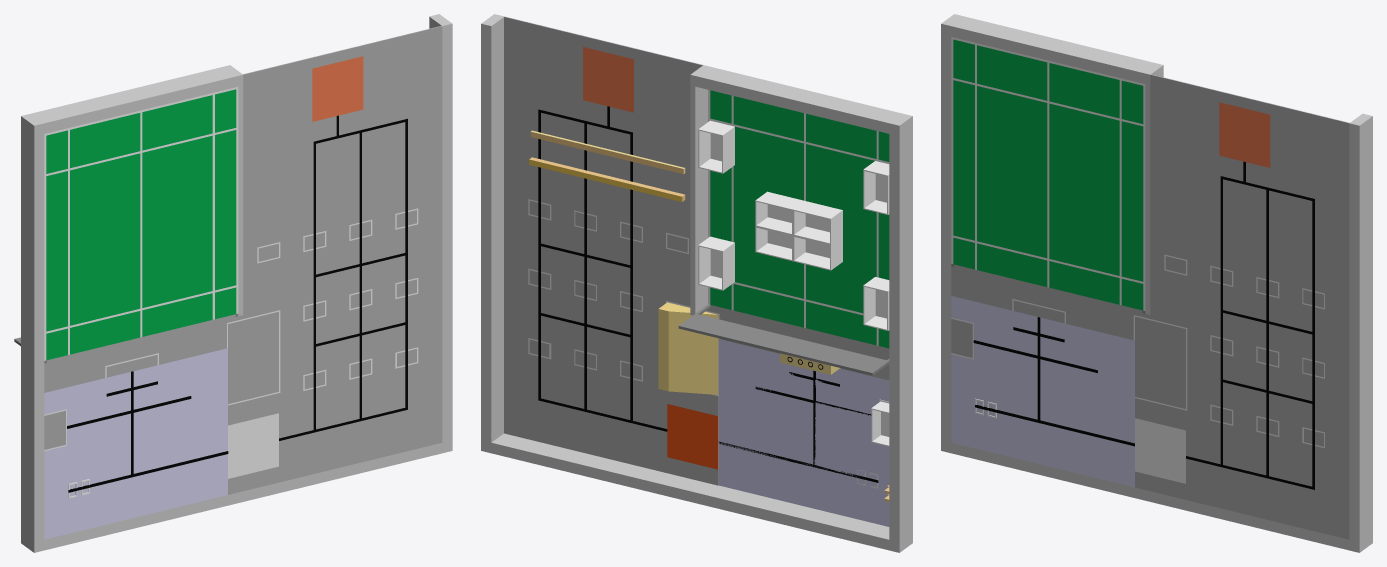
Rendered from TDK_27th.glb.
The picture shows the model from 3 angles, left to right: view 1: azimuth 30°, elevation 25°; view 2: azimuth 150°, elevation 25°; view 3: azimuth 330°, elevation 25°; orthographic projection.
Visible parts, largest first — view 1: Body_44, Body_56, 3DGeom-13, Body_77, Body_78, Body_51, Body_50, Body_80, Body_24, Body_49, Body_75, Body_79 (+17 smaller); view 2: Body_44, Body_56, 3DGeom-11, Body_77, Body_78, Body_51, Body_50, Body_59, Body_49, 3DGeom-894, Body_47, Body_45 (+28 smaller); view 3: Body_44, Body_56, 3DGeom-13, Body_78, Body_77, Body_51, Body_50, Body_80, Body_24, Body_49, Body_79, Body_75 (+17 smaller).
Boxes of the visible parts, box(x1,y1,x2,y2) form: Body_44: box(44, 26, 442, 494); Body_56: box(21, 14, 452, 552); 3DGeom-13: box(44, 348, 227, 539); Body_77: box(142, 135, 212, 307); Body_78: box(70, 153, 140, 325); Body_51: box(362, 122, 405, 263); Body_50: box(316, 133, 359, 274); Body_80: box(44, 87, 238, 360); Body_24: box(228, 311, 278, 403); Body_49: box(279, 115, 407, 440); Body_75: box(46, 171, 67, 331); Body_79: box(215, 130, 236, 290); Body_44: box(504, 16, 889, 485); Body_56: box(481, 14, 912, 552); 3DGeom-11: box(718, 339, 889, 526); Body_77: box(733, 126, 803, 298); Body_78: box(806, 144, 876, 313); Body_51: box(541, 113, 584, 253); Body_50: box(587, 124, 630, 264); Body_59: box(658, 302, 718, 394); Body_49: box(538, 106, 667, 431); 3DGeom-894: box(681, 314, 886, 374); Body_47: box(541, 315, 584, 408); Body_45: box(587, 327, 630, 419); Body_44: box(951, 74, 1349, 539); Body_56: box(941, 14, 1372, 552); 3DGeom-13: box(951, 296, 1134, 487); Body_78: box(977, 86, 1047, 258); Body_77: box(1049, 103, 1119, 275); Body_51: box(1269, 190, 1312, 331); Body_50: box(1223, 179, 1266, 320); Body_80: box(951, 37, 1145, 310); Body_24: box(1135, 316, 1185, 408); Body_49: box(1186, 161, 1314, 489); Body_79: box(1121, 121, 1143, 281); Body_75: box(953, 80, 974, 240).
Size of the model in its own units: 8.2 by 8 by 1.03.
